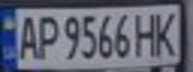5: (78, 11, 100, 60)
6: (112, 10, 136, 60), (97, 11, 118, 60)
9: (57, 11, 81, 61)
A: (12, 11, 39, 61)
H: (133, 9, 160, 57)
K: (151, 7, 181, 57)
P: (33, 11, 60, 61)
